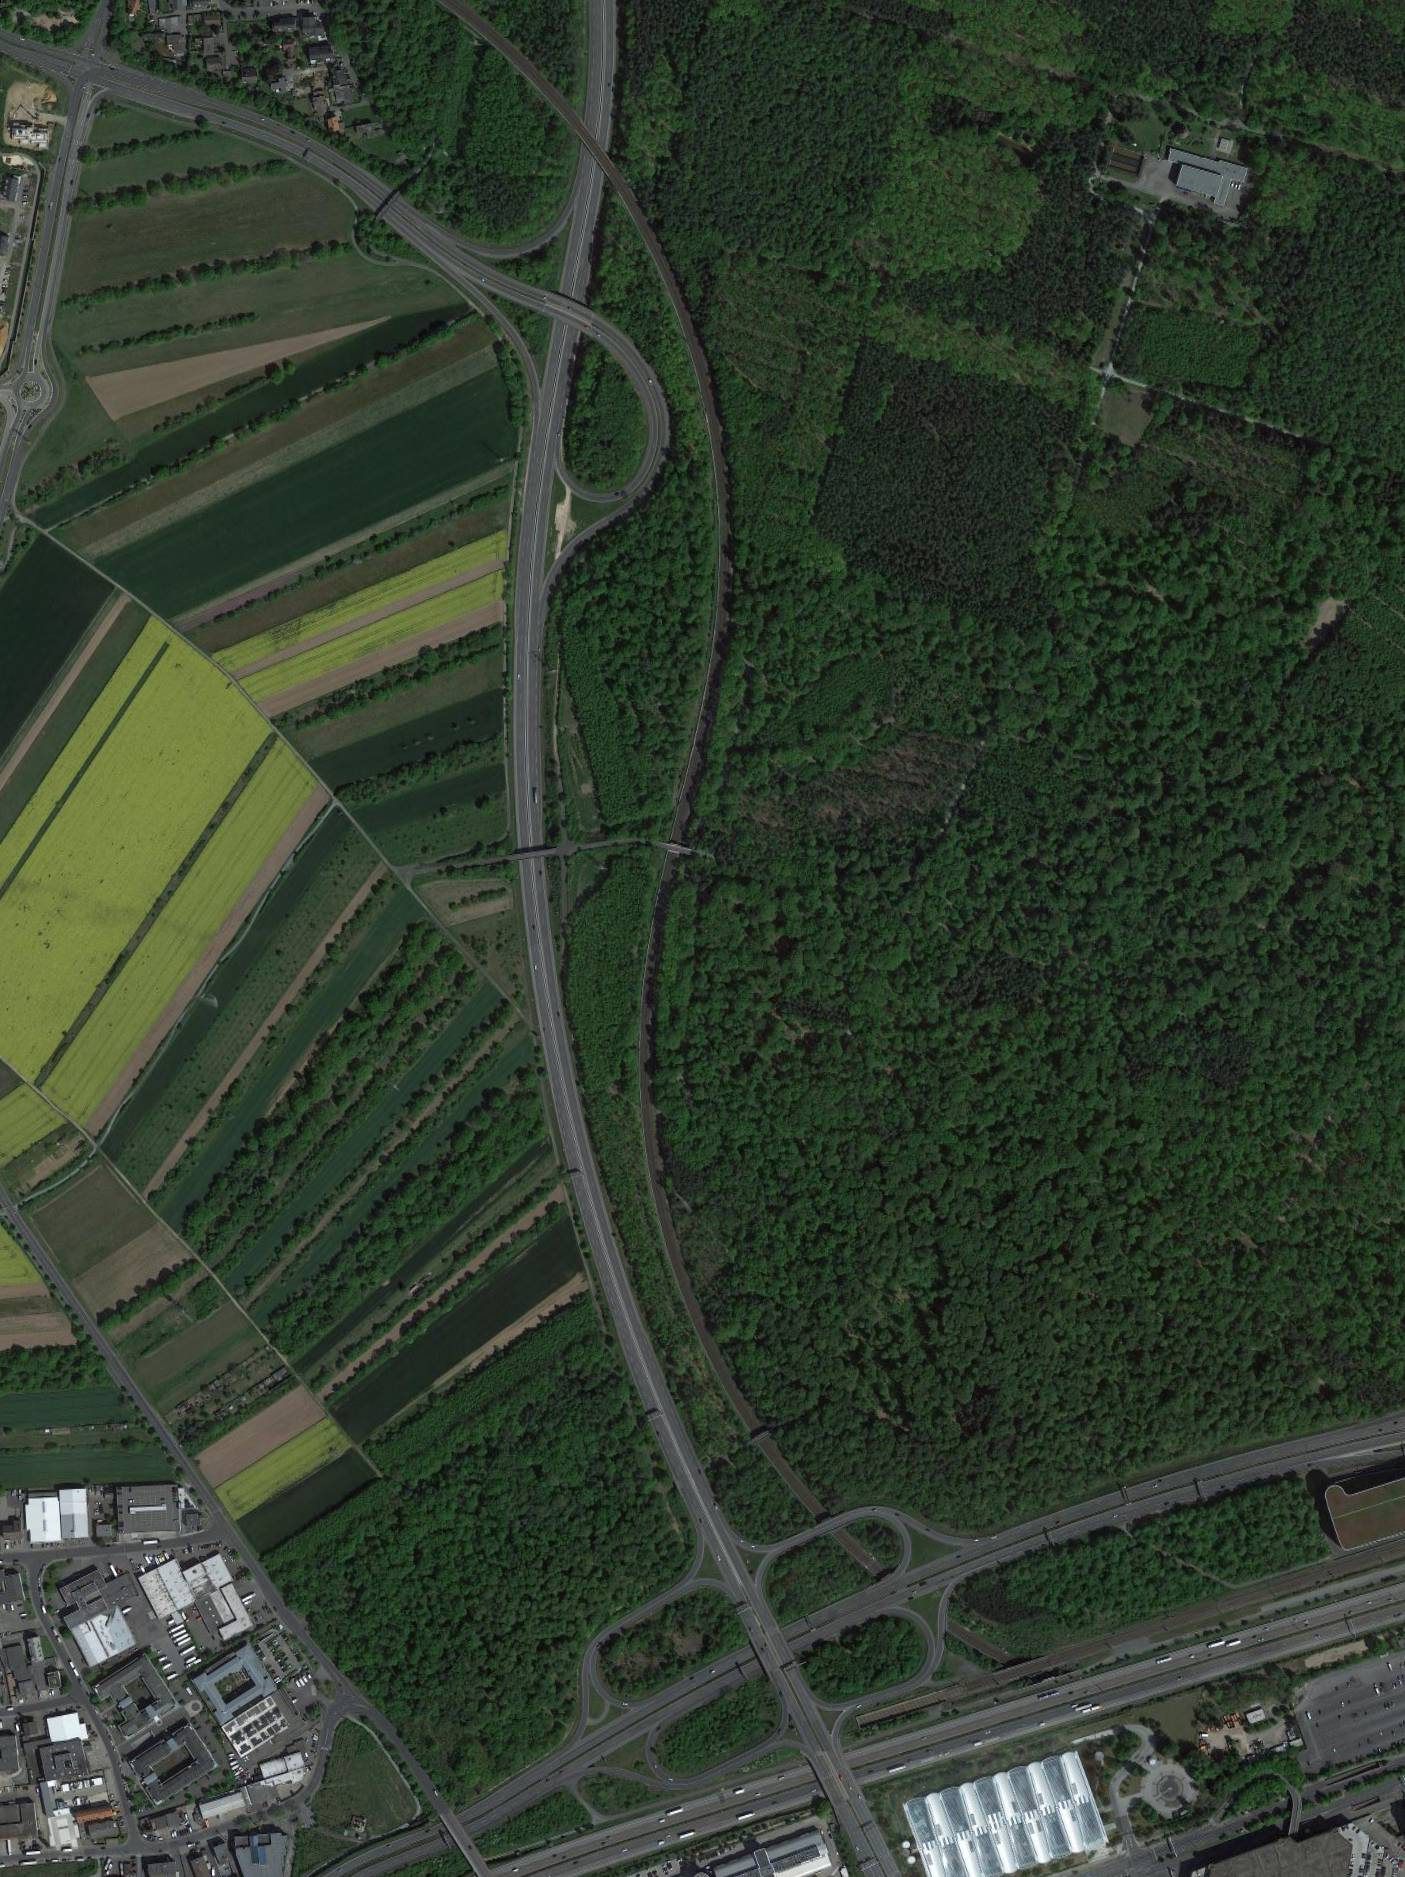roundabout: (12, 373, 52, 413)
